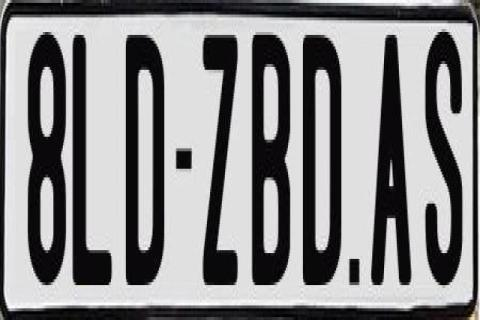0: (26, 29, 68, 285)
A: (370, 29, 414, 297)
B: (252, 29, 291, 279)
D: (126, 29, 169, 291), (303, 35, 343, 299)
L: (70, 26, 112, 291)
S: (426, 26, 464, 282)
Z: (202, 29, 244, 297)
